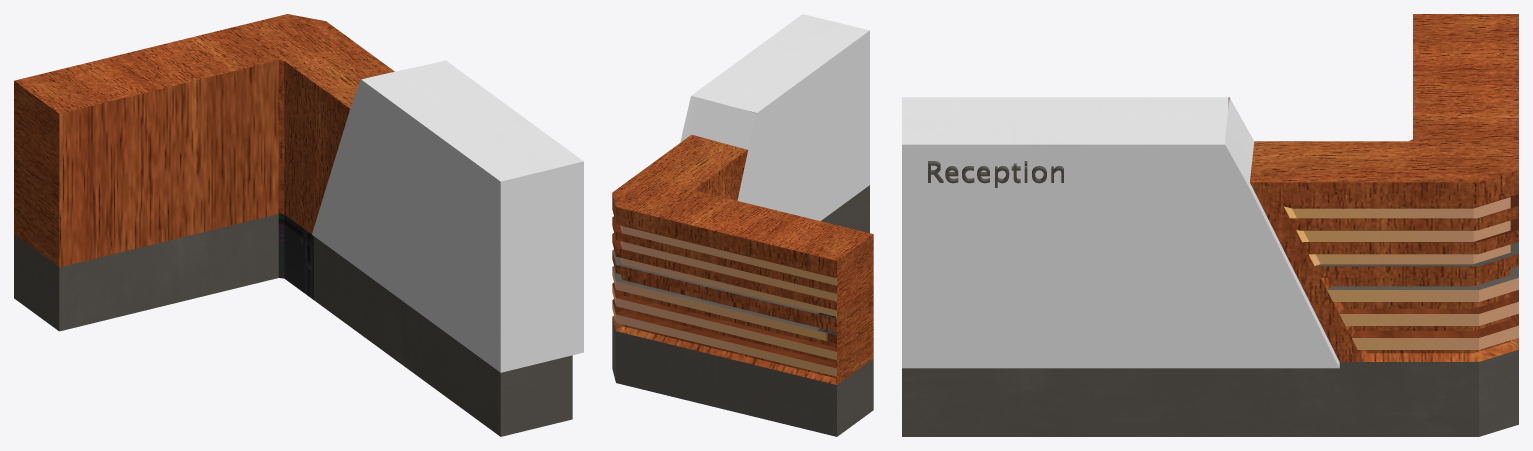
File: Reception.fbx
The picture shows the model from 3 angles, left to right: view 1: azimuth 30°, elevation 25°; view 2: azimuth 150°, elevation 25°; view 3: azimuth 270°, elevation 25°; orthographic projection. The views are drawn at different scales.
Parts seen in each view (by area): view 1: pCube45; view 2: pCube45; view 3: pCube45, typeMesh1.
Boxes of the visible parts, x1=… form: pCube45: x1=14, y1=14, x2=583, y2=436; pCube45: x1=612, y1=14, x2=873, y2=436; pCube45: x1=902, y1=14, x2=1518, y2=436; typeMesh1: x1=928, y1=161, x2=1063, y2=187.
Bounding box in the file's own units: 28.47 × 22.31 × 41.76.
1 material, 1 textured.
